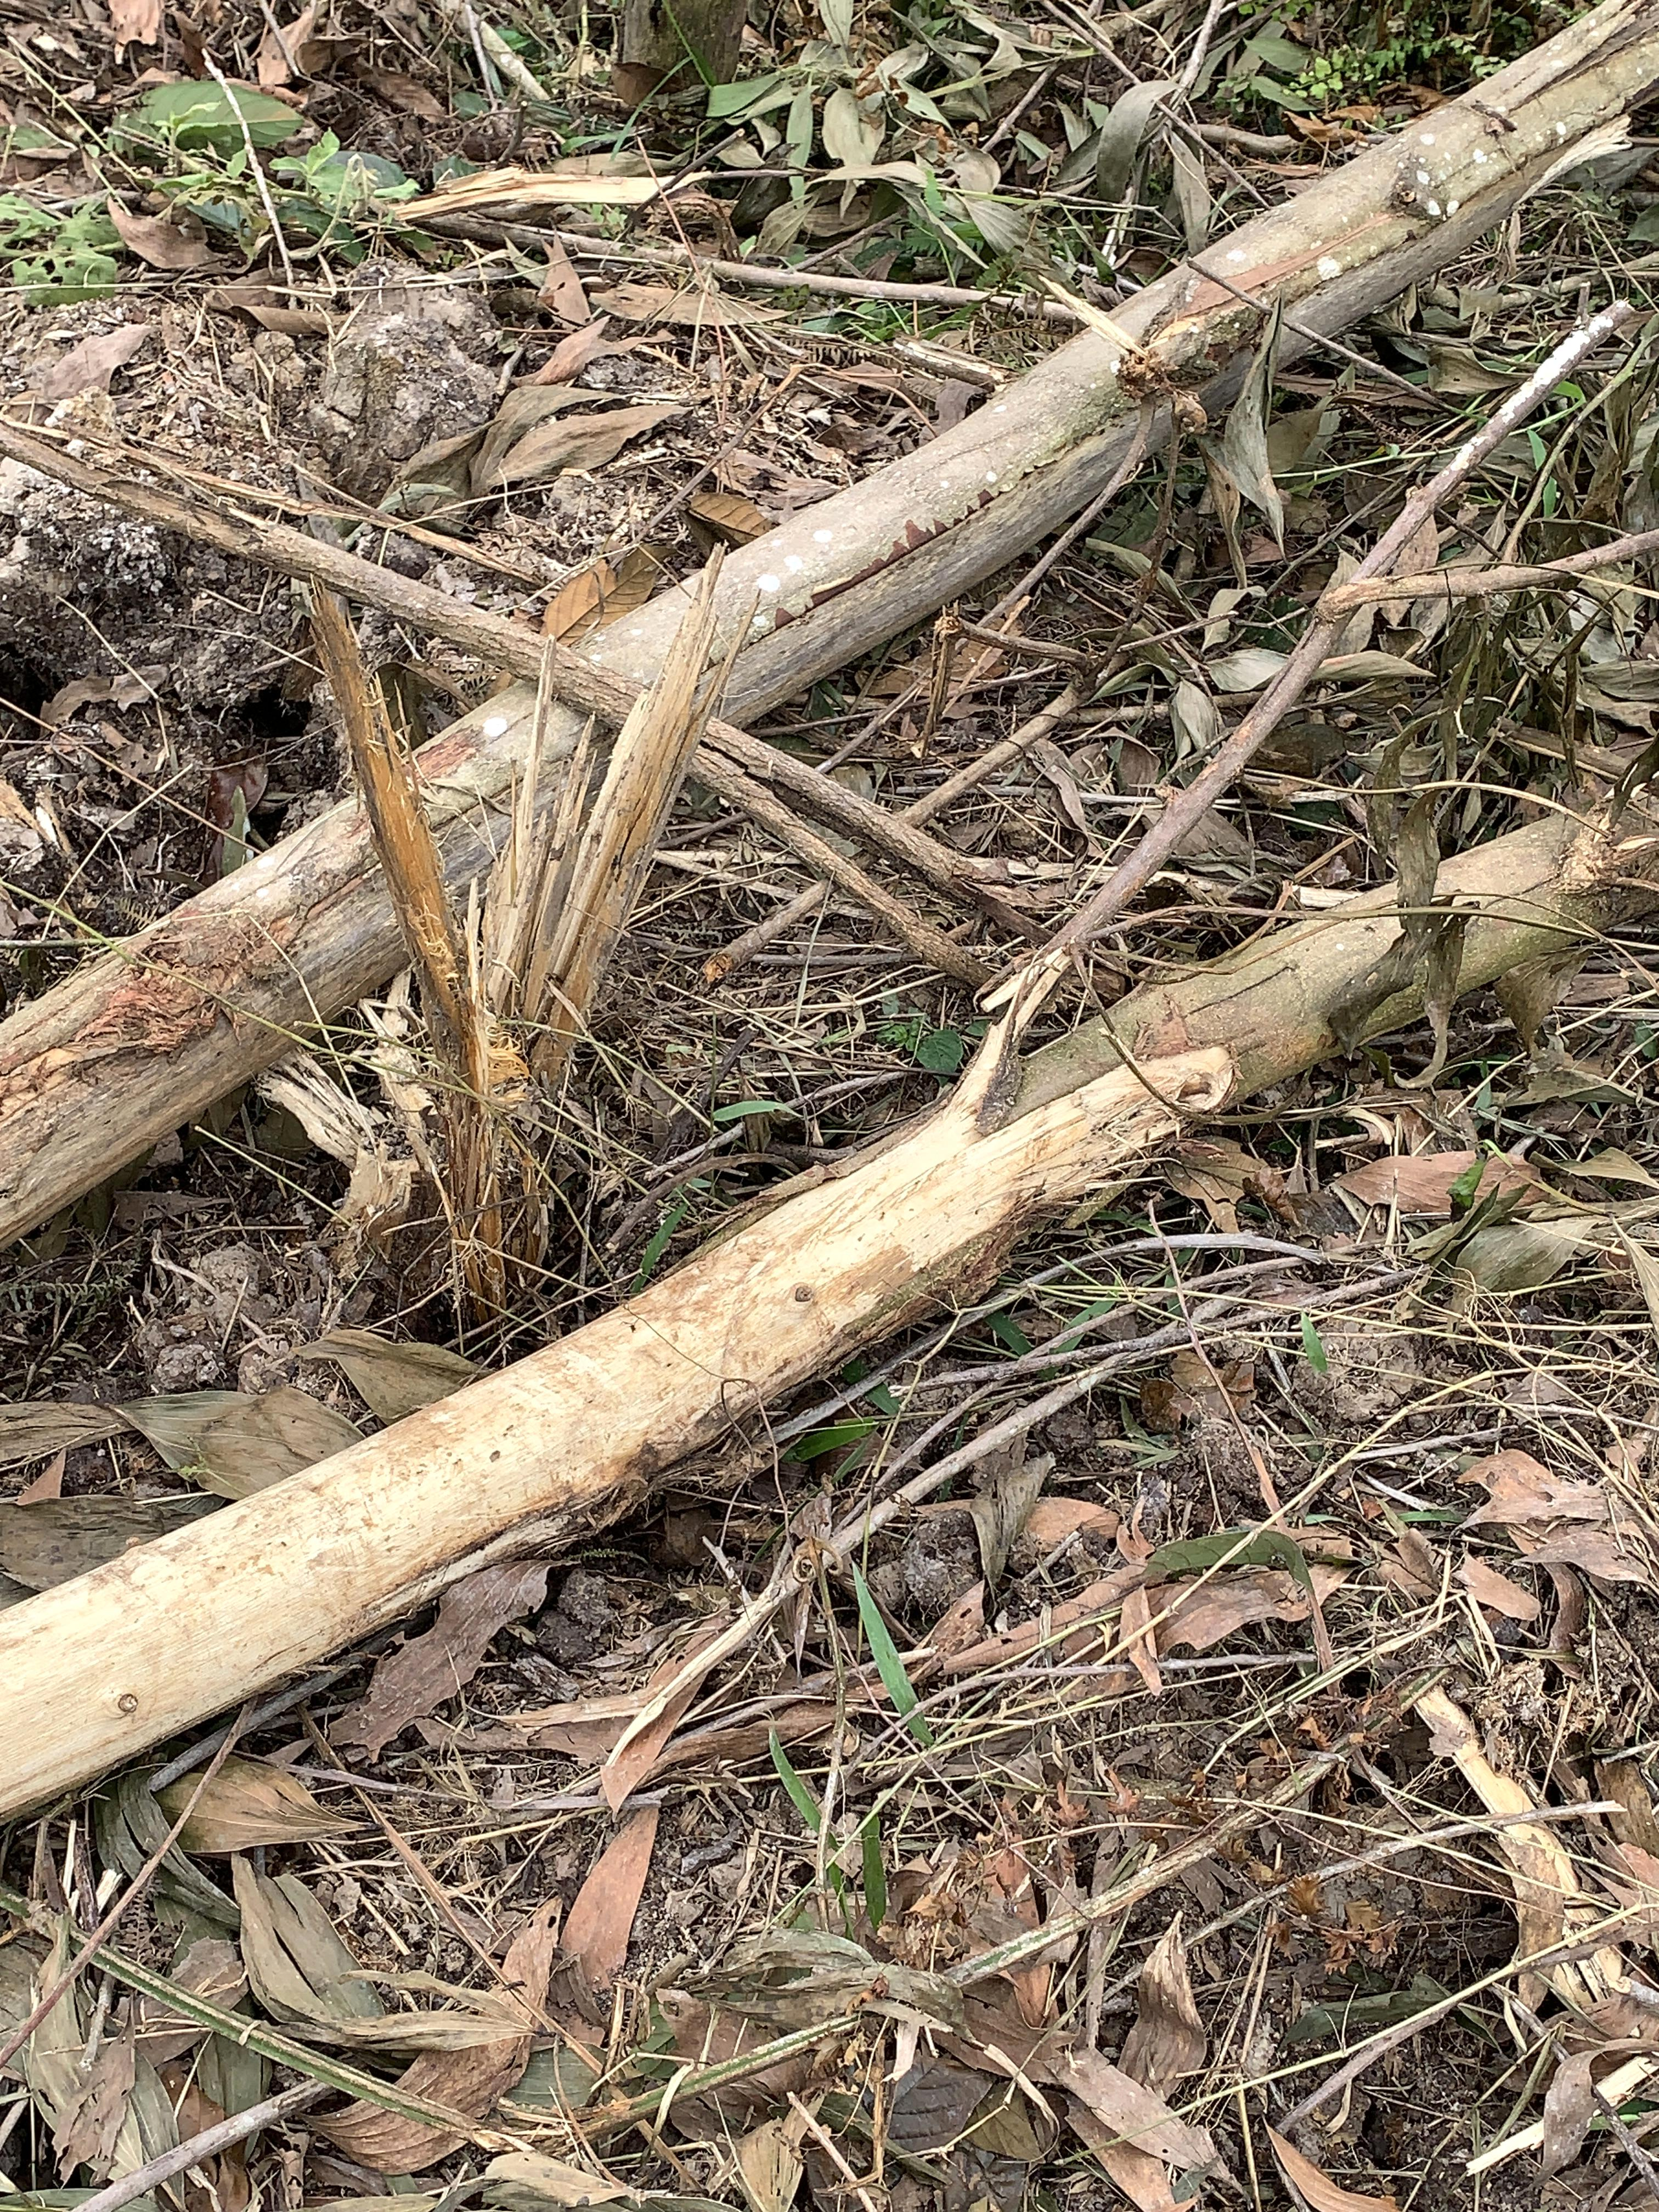Mammals Attack: (35, 951, 1223, 1860)
